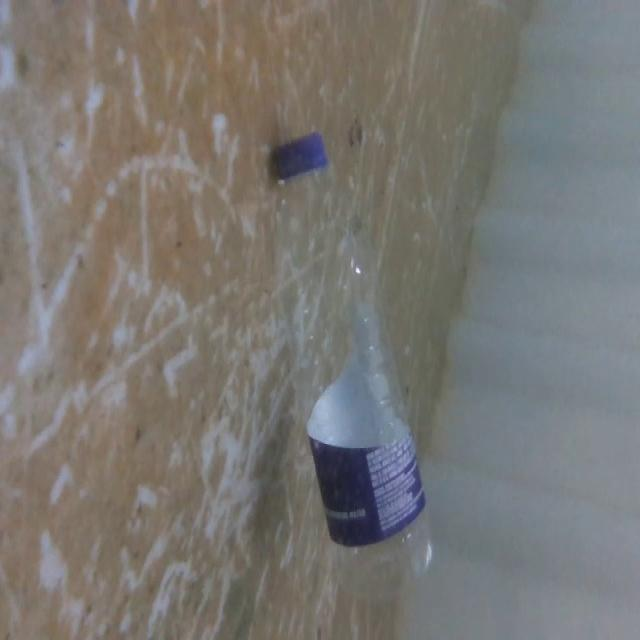plastic bottle: (256, 126, 443, 606)
